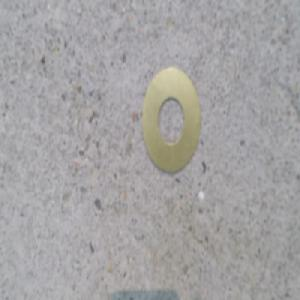Washer: (140, 66, 202, 179)
